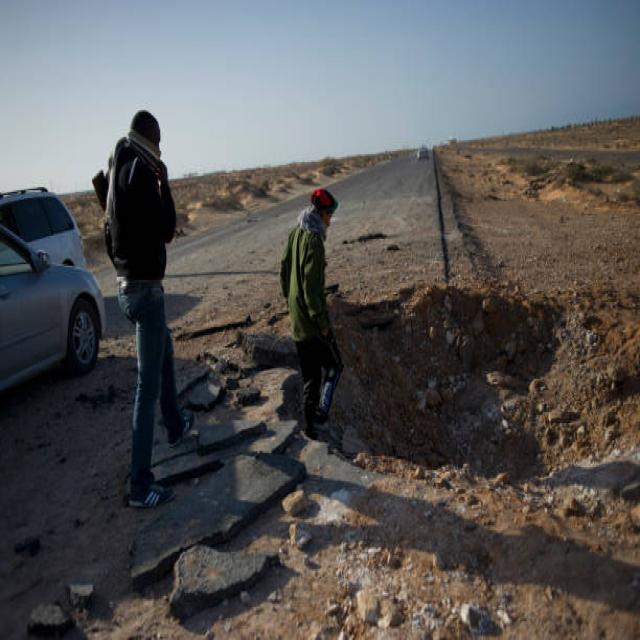LMV: (0, 223, 107, 390), (0, 187, 86, 264)
civilian: (100, 110, 190, 506), (280, 189, 342, 439)
